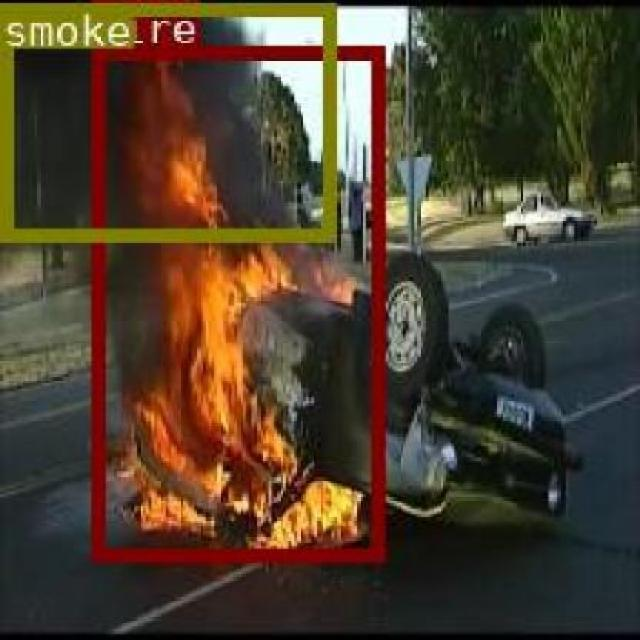Fire: (90, 44, 381, 558)
Smoke: (0, 0, 331, 240)
